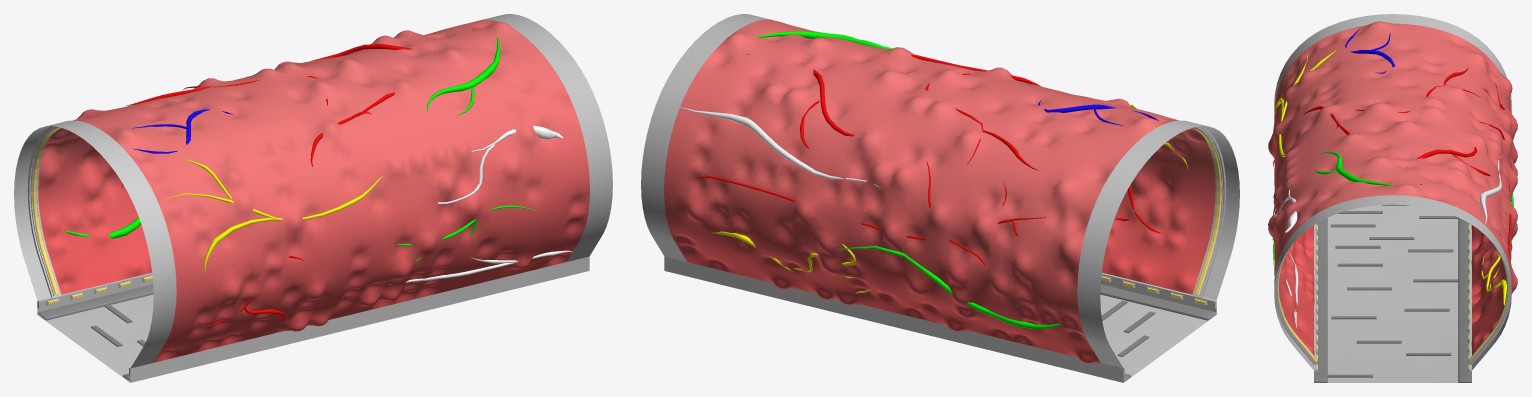
The model's file is Terowongan_3_Lurus.fbx.
3 views of the same model, side by side, from view 1: azimuth 30°, elevation 25°; view 2: azimuth 150°, elevation 25°; view 3: azimuth 270°, elevation 25° (orthographic). The views are drawn at different scales.
Visible parts, largest first — view 1: Terowongan 3_Lurus; view 2: Terowongan 3_Lurus; view 3: Terowongan 3_Lurus.
Boxes of the visible parts, x1,y1,x2,y2 form: Terowongan 3_Lurus: [14, 14, 612, 382]; Terowongan 3_Lurus: [641, 14, 1239, 382]; Terowongan 3_Lurus: [1268, 14, 1517, 382].
Size of the model in its own units: 1000 by 450 by 554.
Materials: 4 (4 with a texture image).
